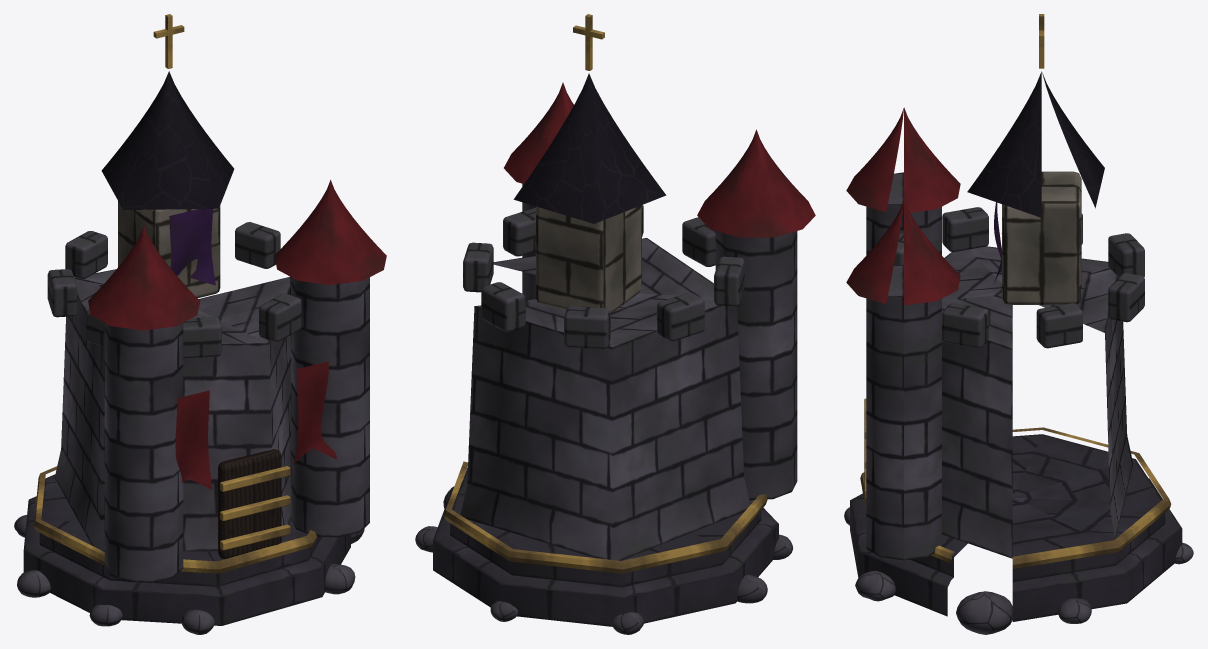
File: order.glb
The picture shows the model from 3 angles, left to right: view 1: azimuth 30°, elevation 25°; view 2: azimuth 150°, elevation 25°; view 3: azimuth 270°, elevation 25°; orthographic projection. The views are drawn at different scales.
Visible parts, largest first — view 1: Base, Turret, Flag; view 2: Base, Turret; view 3: Base, Turret.
Boxes of the visible parts, x1=… form: Base: x1=14, y1=180, x2=386, y2=634; Turret: x1=101, y1=14, x2=234, y2=298; Flag: x1=169, y1=209, x2=215, y2=285; Base: x1=415, y1=82, x2=815, y2=634; Turret: x1=513, y1=14, x2=666, y2=313; Base: x1=844, y1=107, x2=1193, y2=634; Turret: x1=967, y1=14, x2=1104, y2=304.
Bounding box in the file's own units: 1.04 × 1.67 × 0.9657.
Materials: 9 (9 with a texture image).
